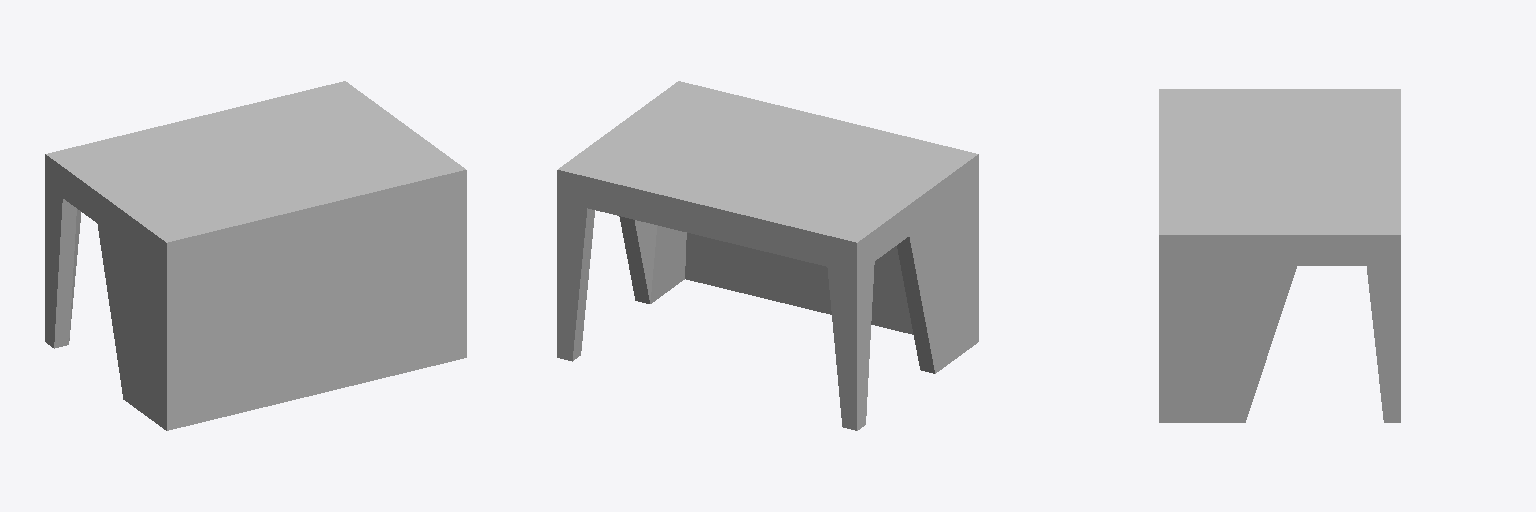
Rendered from ControlDesk.obj.
3 views of the same model, side by side, from view 1: azimuth 30°, elevation 25°; view 2: azimuth 150°, elevation 25°; view 3: azimuth 270°, elevation 25° (orthographic).
Parts seen in each view (by area): view 1: ControlDesk; view 2: ControlDesk; view 3: ControlDesk.
Boxes of the visible parts, x1=… form: ControlDesk: x1=45, y1=81, x2=466, y2=430; ControlDesk: x1=557, y1=81, x2=978, y2=430; ControlDesk: x1=1159, y1=89, x2=1400, y2=422.
Bounding box in the file's own units: 2 × 1.2 × 1.4.